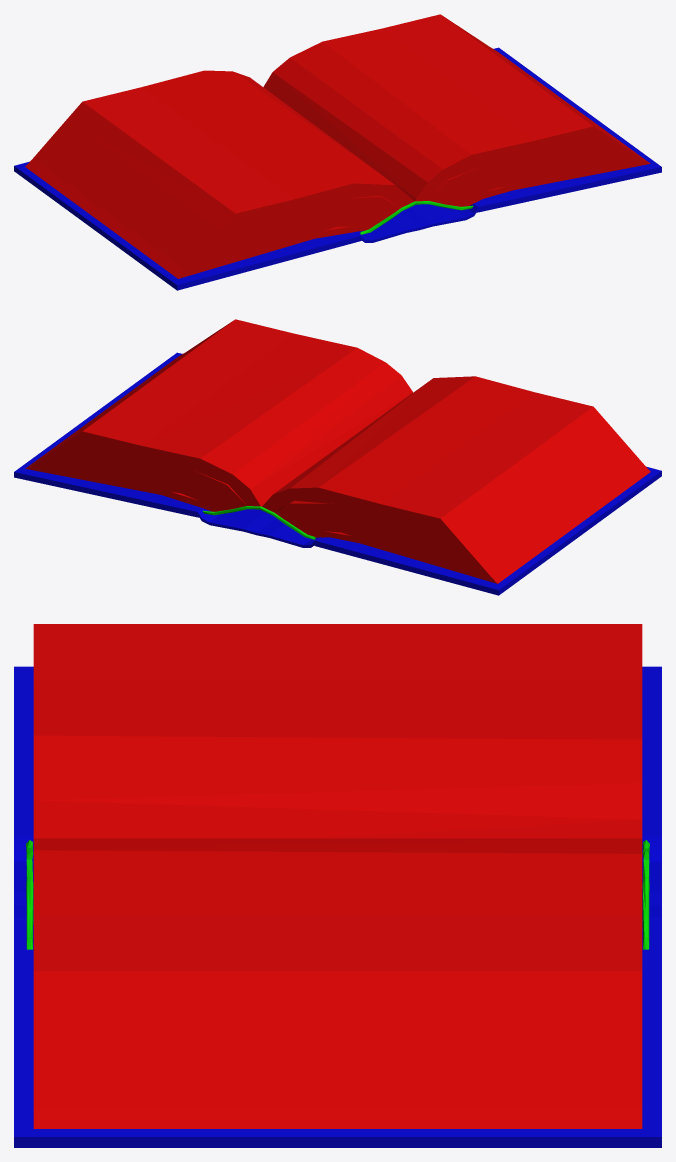
File: libro_aperto.fbx
The picture shows the model from 3 angles, top to bottom: view 1: azimuth 30°, elevation 25°; view 2: azimuth 150°, elevation 25°; view 3: azimuth 270°, elevation 25°; orthographic projection. The views are drawn at different scales.
Visible parts, largest first — view 1: Cover_Plane; view 2: Cover_Plane; view 3: Cover_Plane.
Boxes of the visible parts, x1,y1,x2,y2 form: Cover_Plane: [14, 14, 661, 290]; Cover_Plane: [14, 319, 661, 595]; Cover_Plane: [14, 624, 661, 1147].
Bounding box in the file's own units: 456 × 53.51 × 266.
